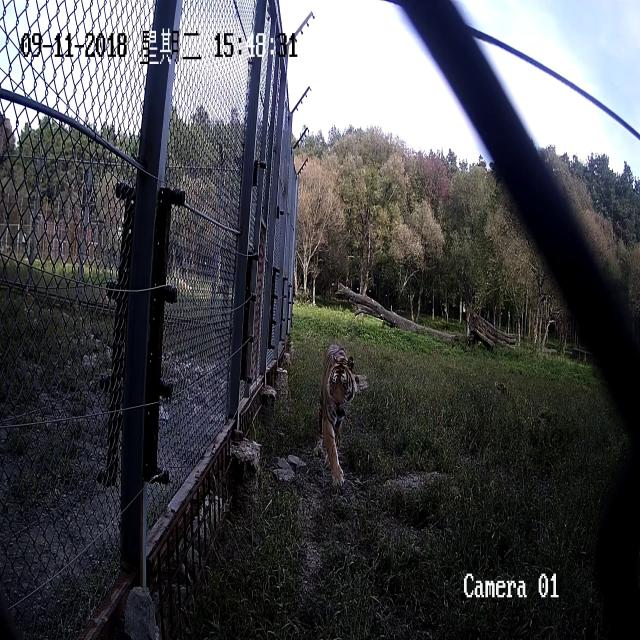Tiger: (314, 340, 363, 490), (493, 373, 510, 405)
